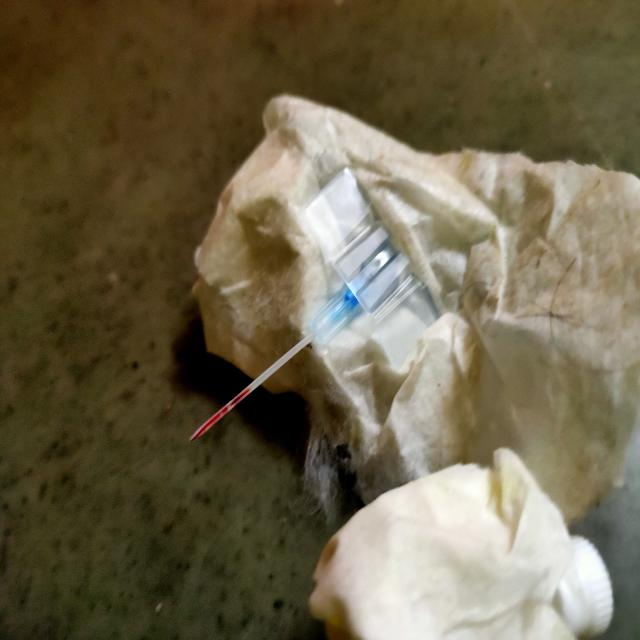B3: (178, 163, 418, 446)
